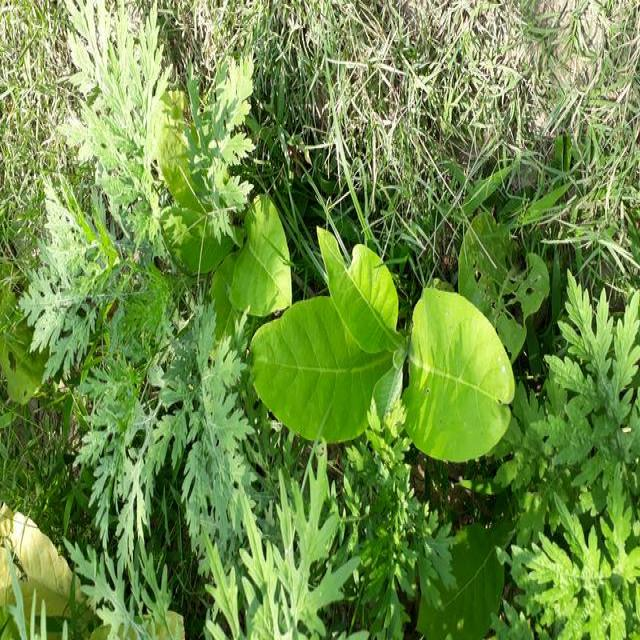crop: (255, 240, 510, 452), (231, 211, 287, 313)
